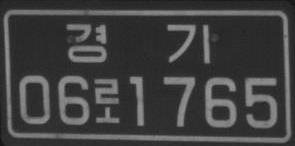0: (18, 74, 51, 126)
1: (125, 75, 151, 127)
5: (243, 75, 278, 130)
6: (204, 75, 238, 129), (56, 74, 91, 126)
7: (162, 75, 197, 128)
경기_D: (64, 23, 211, 65)
로: (92, 76, 121, 124)
